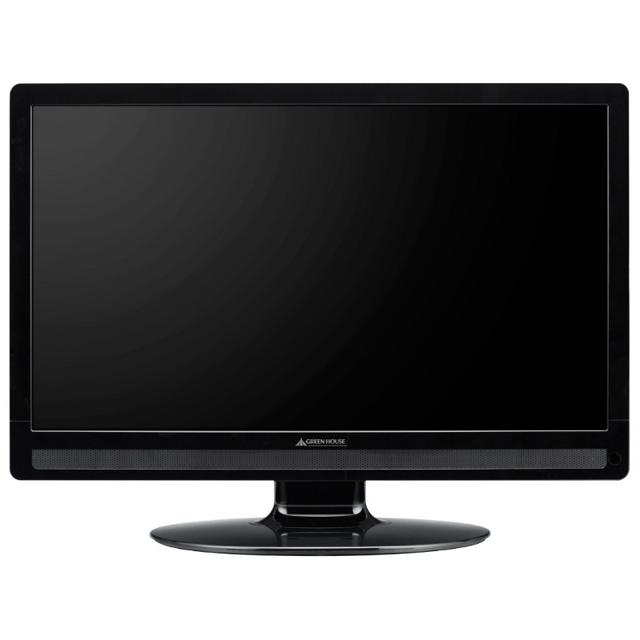tvmonitor: (9, 83, 632, 560)
